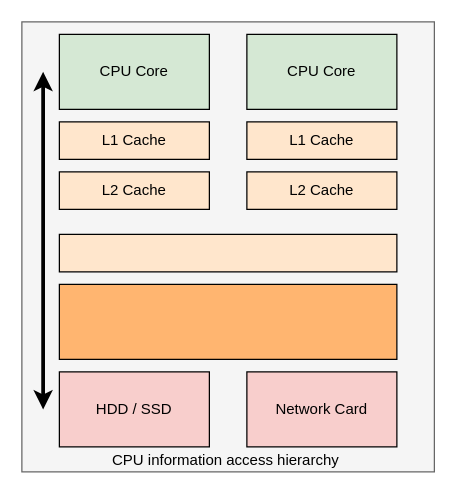
This 456x494 diagram has some shape labels left out. Each missing label, with the box of its shape:
L3 Cache: (58, 233, 397, 272)
RAM - Main Memory: (58, 283, 397, 359)
